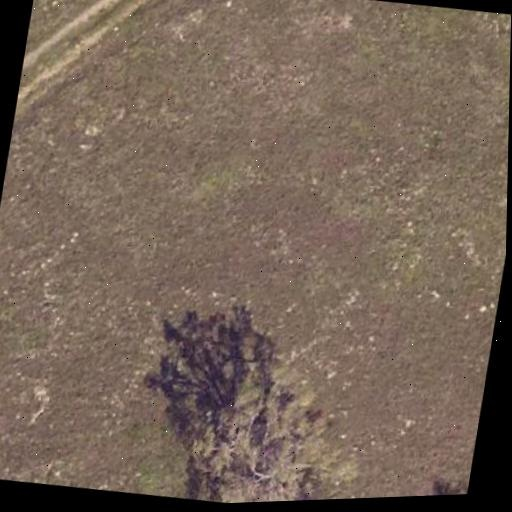tree-top: (174, 364, 361, 505), (426, 468, 470, 496)
